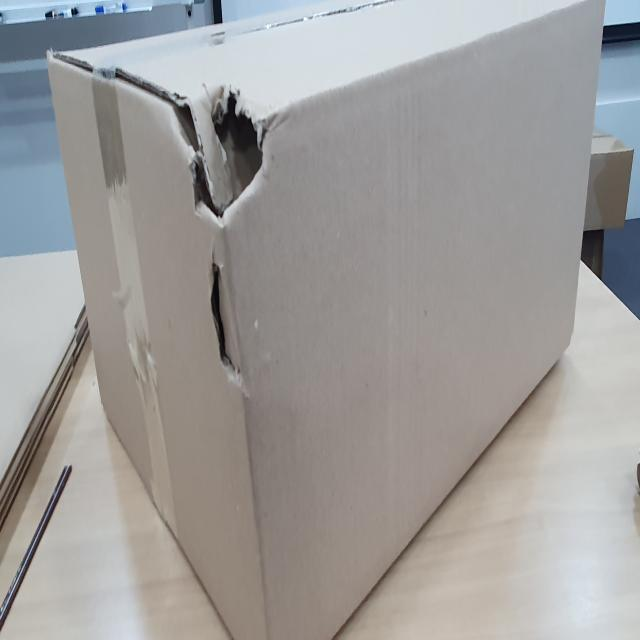hole: (168, 81, 275, 229), (206, 254, 247, 399)
